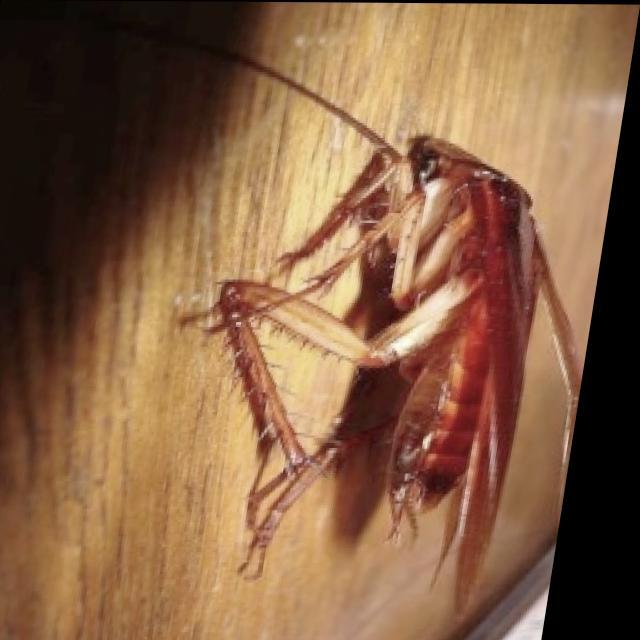cockroach: (309, 96, 570, 518)
